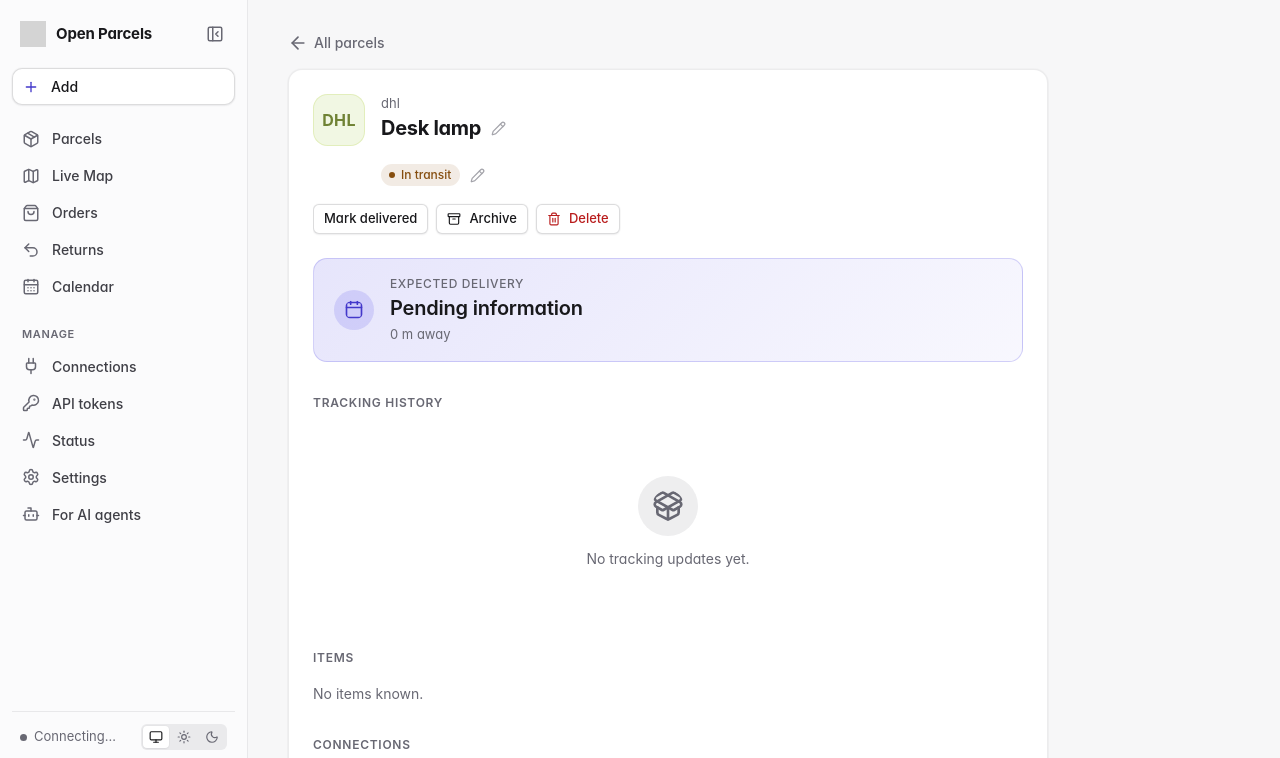
Scenario: editing a parcel in place › saves a picked status with Save and puts it back when the server refuses
The image size is (1280, 758).
Click the button named "Change status" at (477, 175), box [464, 162, 490, 188]
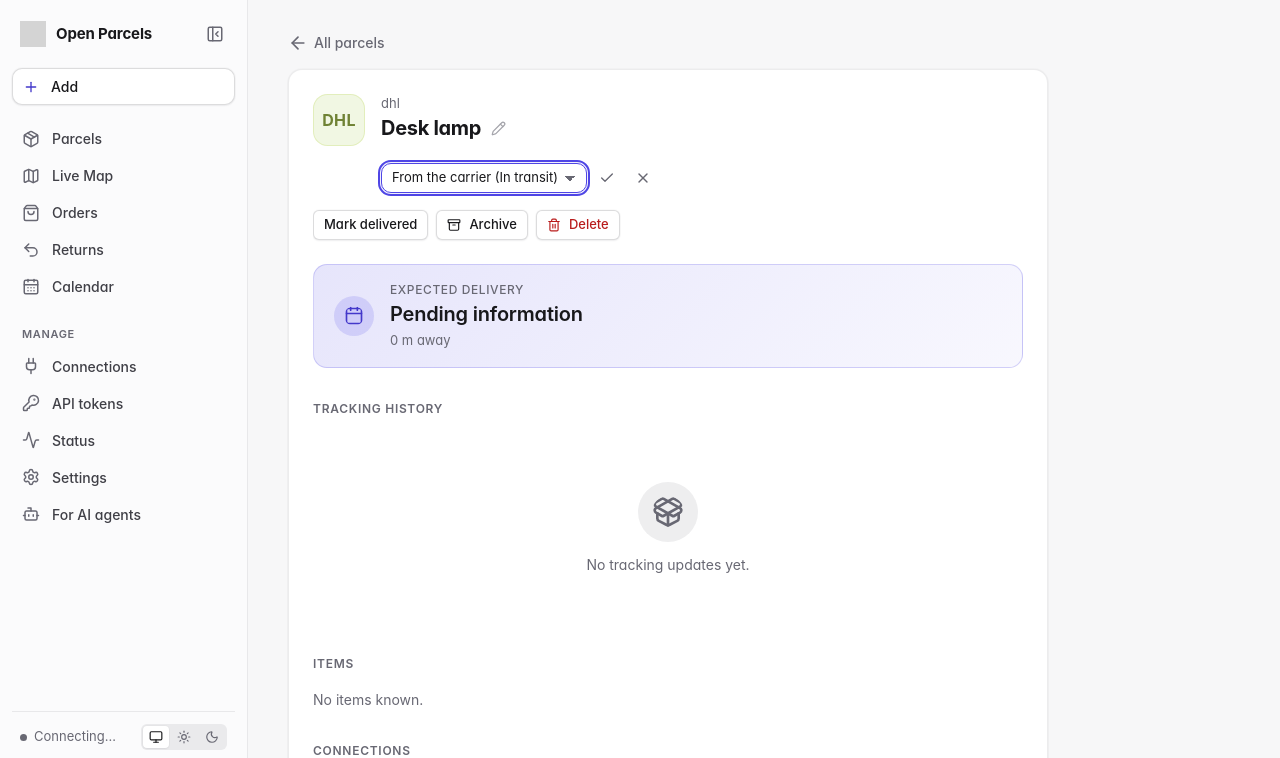
Select "At pickup point" in the dropdown named "Status" at (484, 178), box [381, 163, 587, 193]
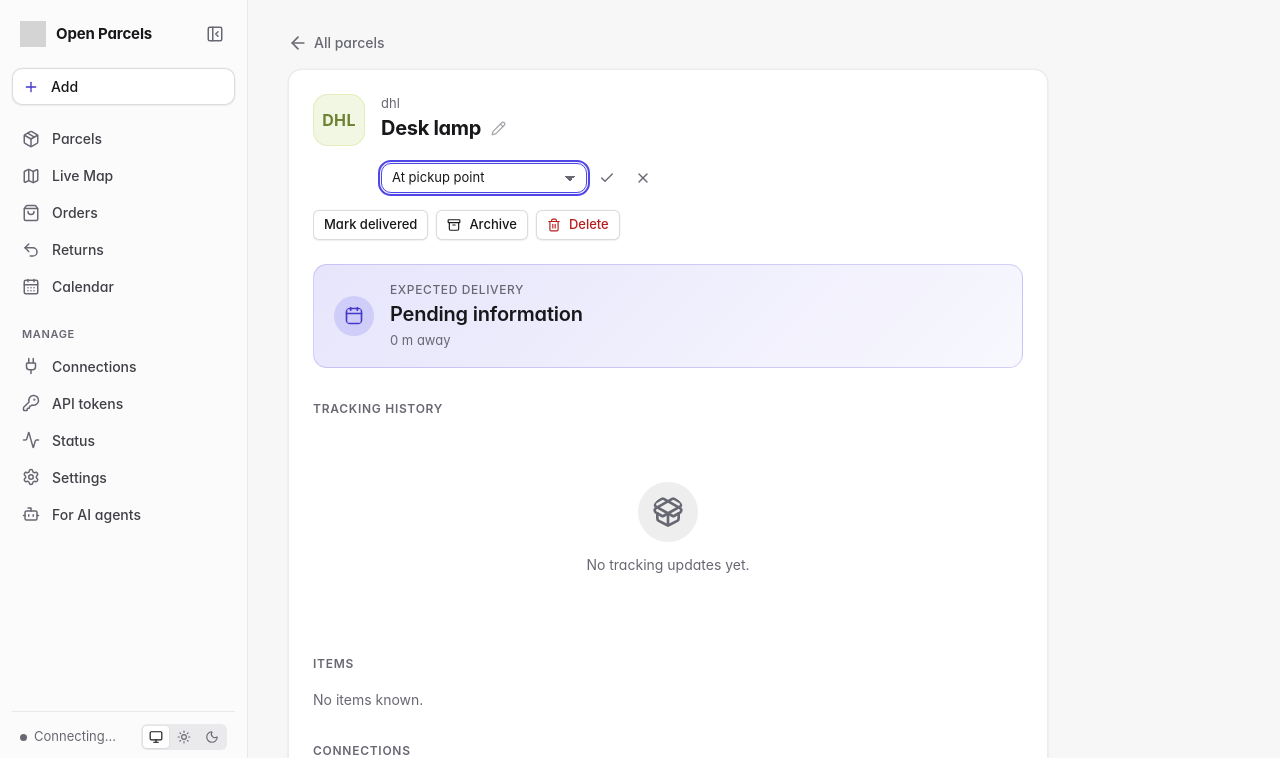
Click the button named "Save status" at (607, 178), box [591, 162, 623, 194]
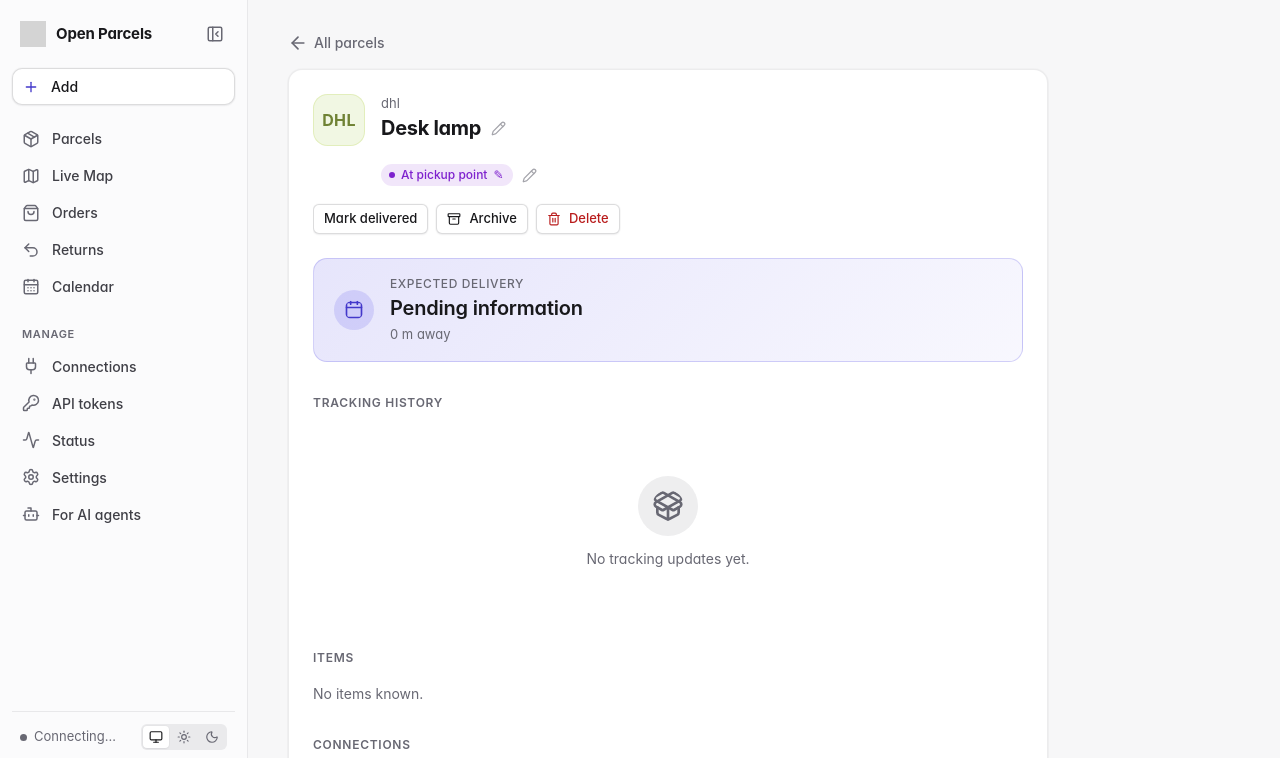
Click the button named "Change status" at (530, 175), box [516, 162, 542, 188]
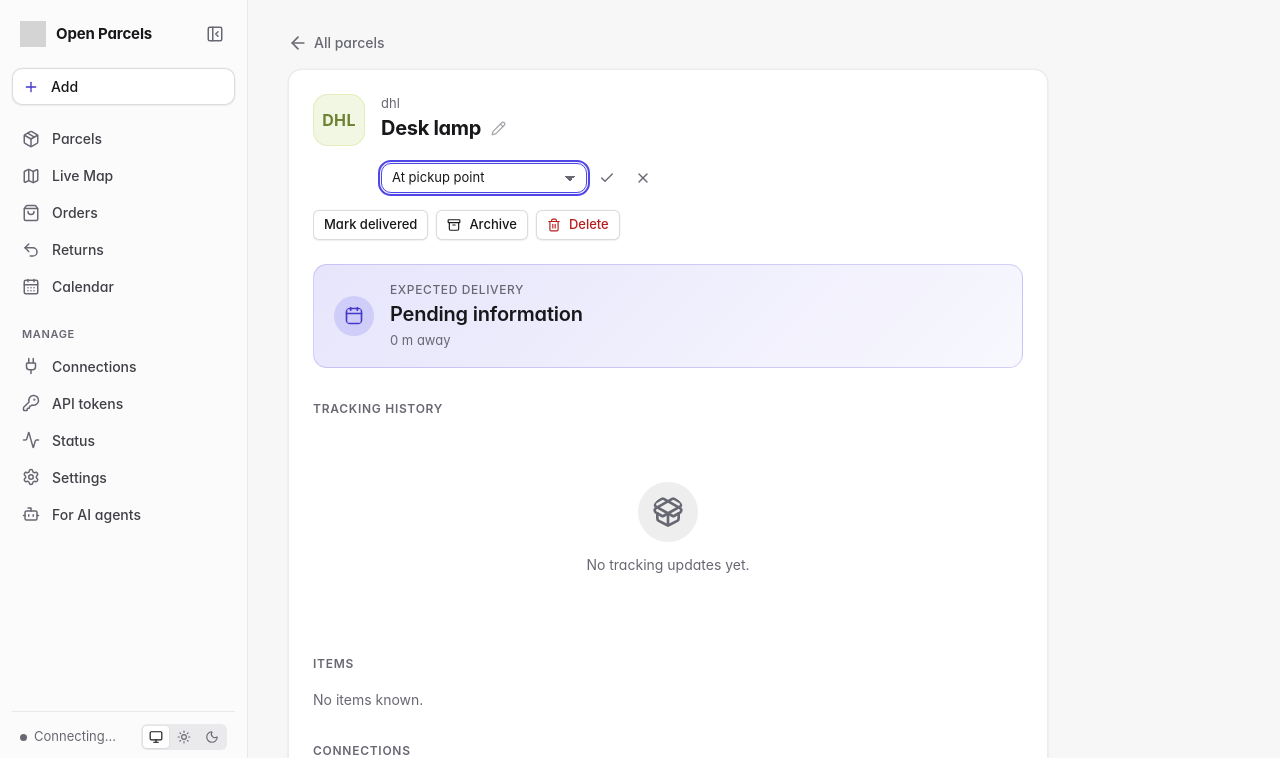
Select "Delivered" in the dropdown named "Status" at (484, 178), box [381, 163, 587, 193]
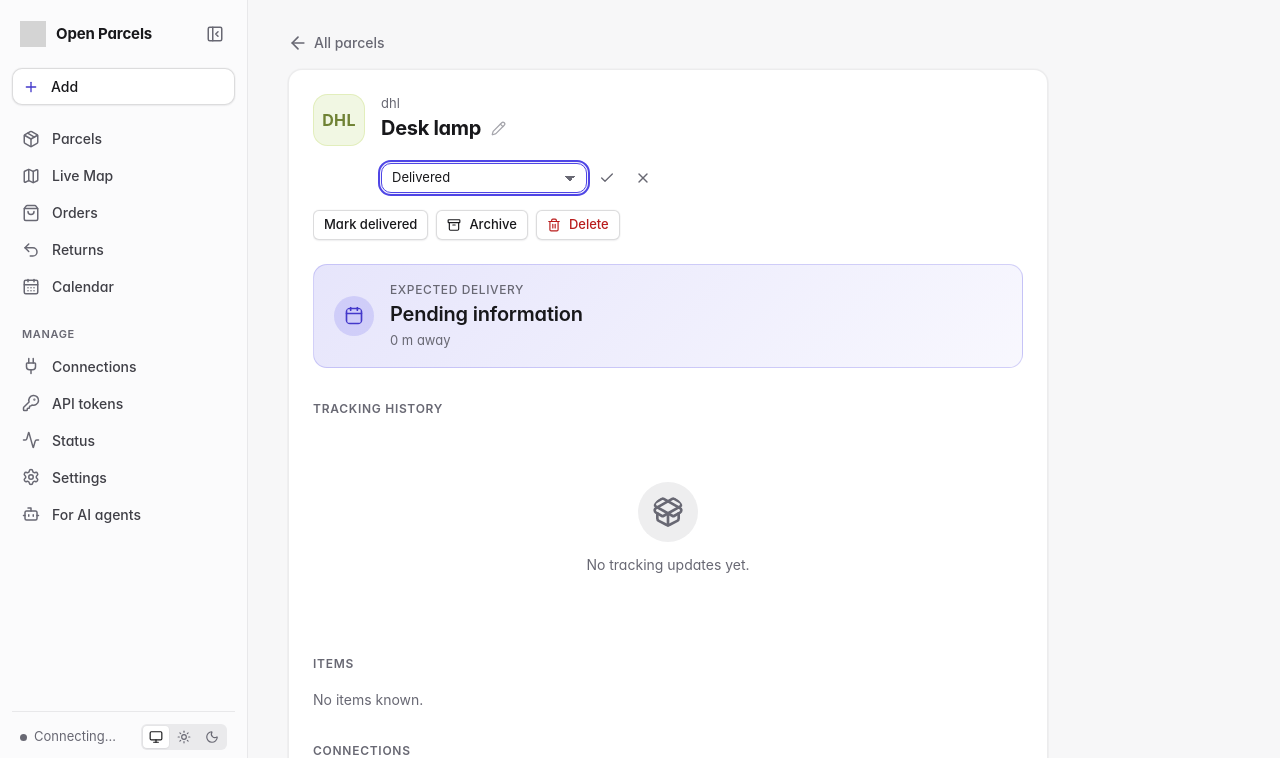
Click the button named "Save status" at (607, 178), box [591, 162, 623, 194]
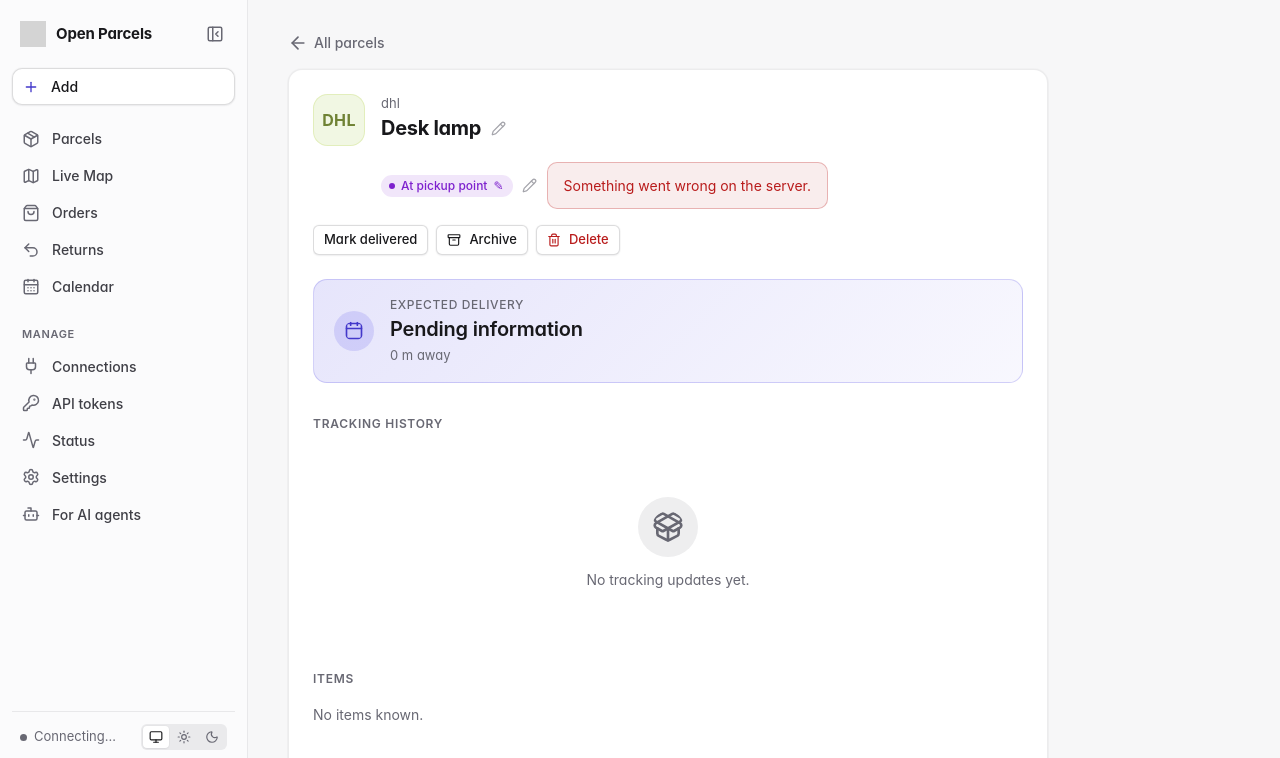
Expected: the text "Something went wrong on the server." is shown, [546, 162, 828, 209]
Expected: the text "At pickup point" is shown, [401, 178, 487, 192]
